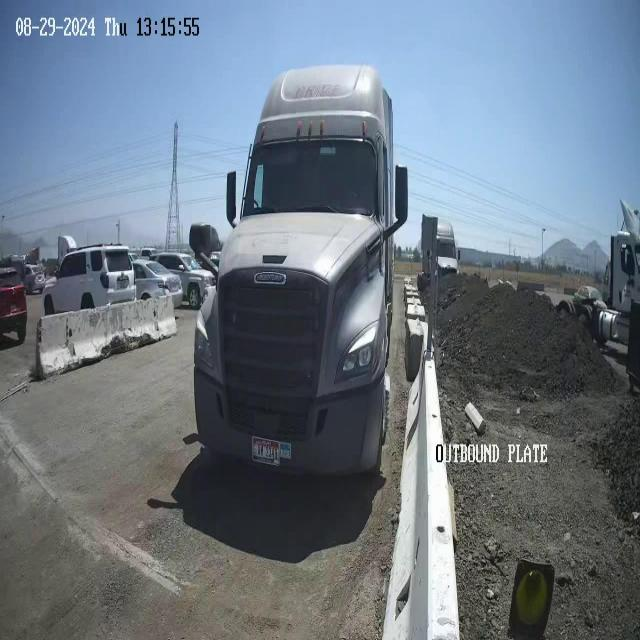TRUCK_OUT: (184, 63, 408, 481)
